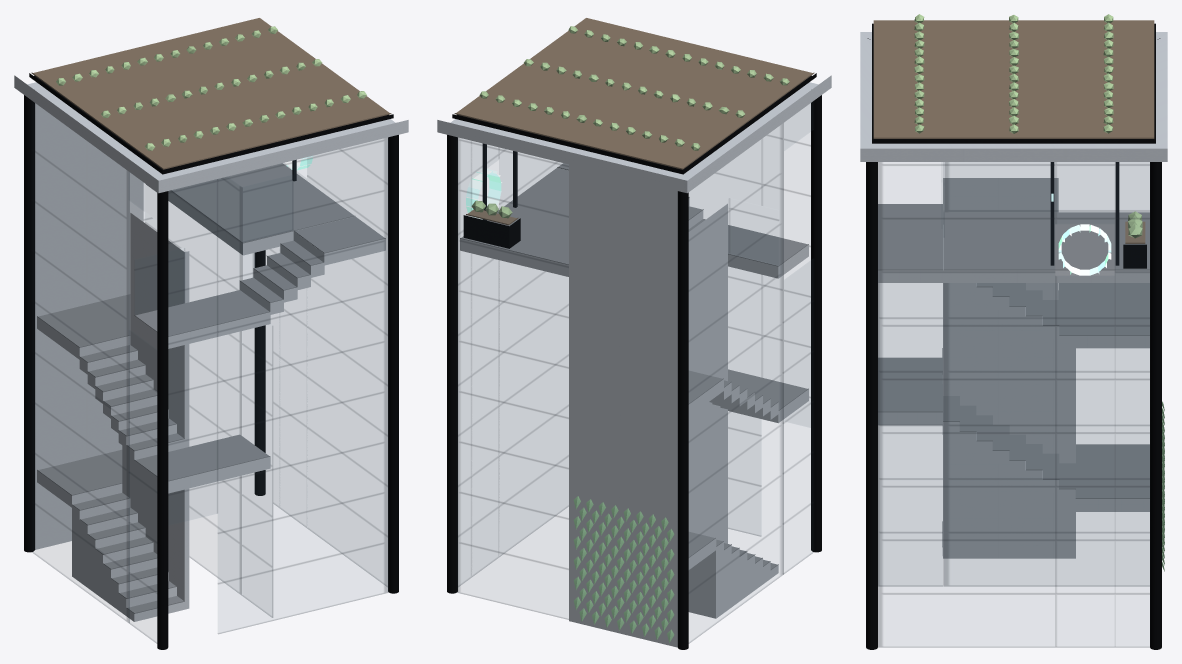
3 views of the same model, side by side, from view 1: azimuth 30°, elevation 25°; view 2: azimuth 150°, elevation 25°; view 3: azimuth 270°, elevation 25° (orthographic). The views are drawn at different scales.
Visible parts, largest first — view 1: Enclosure_Glass, Planter_Soil, Garden_Wall, Treads_Slate, Columns, Stair_Cast, Spine_Wall, Deck_Finish, Roof, Deck, Roof_Foliage, Roof_Planter; view 2: Enclosure_Glass, Garden_Wall, Planter_Soil, Columns, Spine_Wall, Stair_Cast, Roof, Green_Wall, Treads_Slate, Deck_Finish, Roof_Foliage, Roof_Planter (+4 smaller); view 3: Enclosure_Glass, Spine_Wall, Planter_Soil, Treads_Slate, Deck_Finish, Columns, Roof, Stair_Cast, Deck, Roof_Foliage, Roof_Planter, Gate_Posts (+3 smaller).
Part boxes in pixels (x1=…): Enclosure_Glass: x1=32, y1=137, x2=388, y2=643; Planter_Soil: x1=31, y1=18, x2=391, y2=169; Garden_Wall: x1=35, y1=103, x2=143, y2=549; Treads_Slate: x1=37, y1=240, x2=324, y2=613; Columns: x1=24, y1=95, x2=398, y2=649; Stair_Cast: x1=37, y1=244, x2=324, y2=621; Spine_Wall: x1=122, y1=213, x2=189, y2=609; Deck_Finish: x1=171, y1=163, x2=385, y2=253; Roof: x1=14, y1=75, x2=408, y2=193; Deck: x1=146, y1=184, x2=385, y2=265; Roof_Foliage: x1=56, y1=26, x2=366, y2=150; Roof_Planter: x1=29, y1=73, x2=393, y2=174; Enclosure_Glass: x1=457, y1=102, x2=813, y2=643; Garden_Wall: x1=569, y1=164, x2=677, y2=647; Planter_Soil: x1=454, y1=18, x2=814, y2=169; Columns: x1=447, y1=95, x2=821, y2=649; Spine_Wall: x1=688, y1=203, x2=727, y2=543; Stair_Cast: x1=688, y1=198, x2=808, y2=618; Roof: x1=437, y1=75, x2=831, y2=193; Green_Wall: x1=573, y1=496, x2=674, y2=642; Treads_Slate: x1=688, y1=197, x2=808, y2=569; Deck_Finish: x1=460, y1=163, x2=568, y2=264; Roof_Foliage: x1=479, y1=26, x2=789, y2=150; Roof_Planter: x1=452, y1=73, x2=816, y2=174; Enclosure_Glass: x1=878, y1=162, x2=1149, y2=647; Spine_Wall: x1=943, y1=178, x2=1075, y2=558; Planter_Soil: x1=873, y1=20, x2=1154, y2=138; Treads_Slate: x1=878, y1=204, x2=1149, y2=547; Deck_Finish: x1=878, y1=212, x2=1149, y2=270; Columns: x1=866, y1=38, x2=1161, y2=649; Roof: x1=860, y1=32, x2=1167, y2=161; Stair_Cast: x1=878, y1=283, x2=1149, y2=555; Deck: x1=878, y1=225, x2=1149, y2=282; Roof_Foliage: x1=914, y1=14, x2=1113, y2=133; Roof_Planter: x1=872, y1=23, x2=1155, y2=143; Gate_Posts: x1=1050, y1=162, x2=1119, y2=265.
Size of what is drawn, in the model's own units: 5.2 by 9.65 by 5.2.
9 materials, 4 textured.
